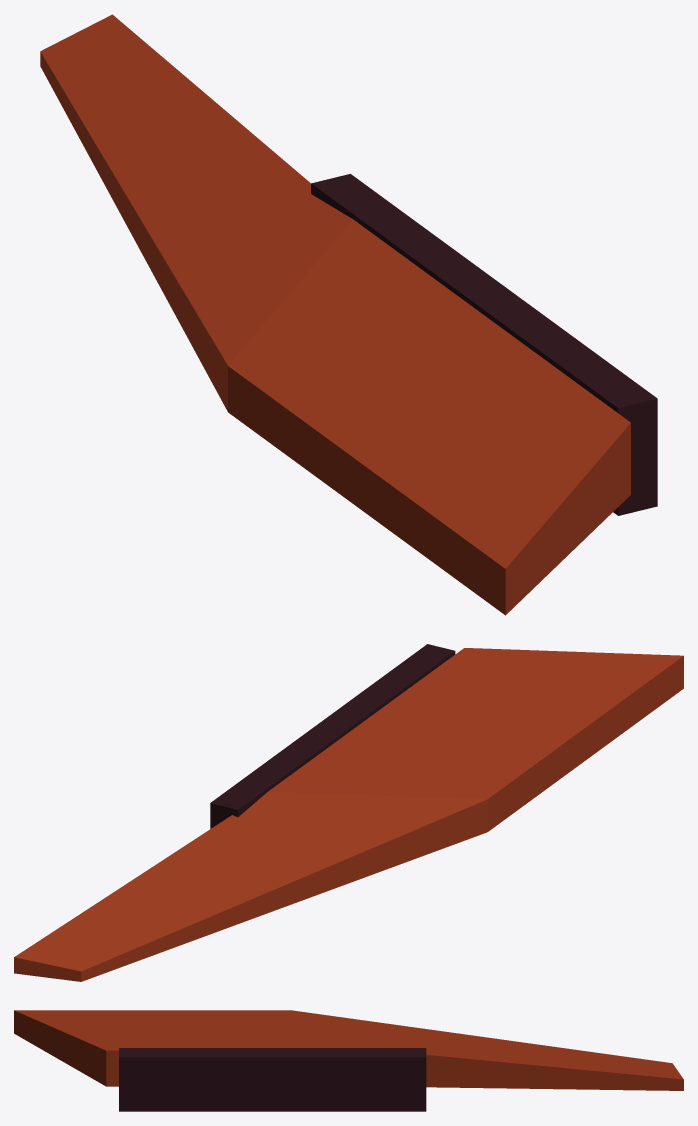
File: Czesc_6.fbx
The picture shows the model from 3 angles, top to bottom: view 1: azimuth 30°, elevation 25°; view 2: azimuth 150°, elevation 25°; view 3: azimuth 270°, elevation 25°; orthographic projection. The views are drawn at different scales.
Visible parts, largest first — view 1: Cube.000; view 2: Cube.000; view 3: Cube.000.
Boxes of the visible parts, x1,y1,x2,y2 form: Cube.000: [40, 14, 657, 615]; Cube.000: [14, 644, 683, 981]; Cube.000: [14, 1010, 683, 1111].
Bounding box in the file's own units: 129 × 48 × 541.
